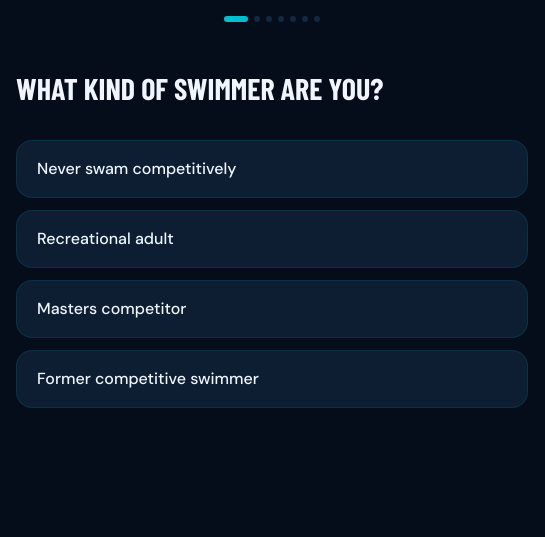
Test: OnboardingPage › enables continue on strokes step after selecting a stroke
Step 1. Click the button "Recreational adult" → coordinates (105, 238), box [16, 210, 528, 268]
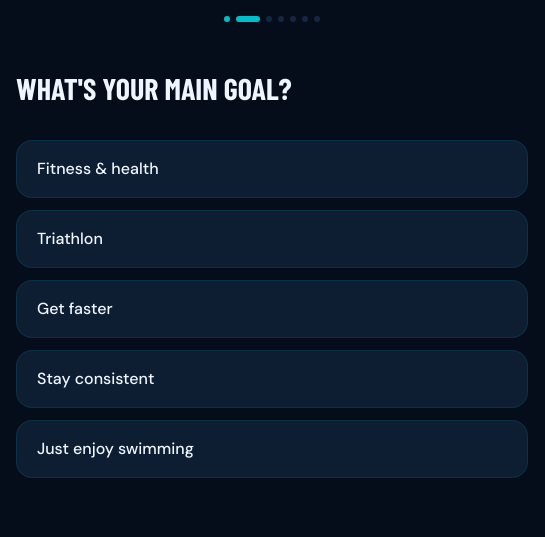
Step 2. Click the button "Fitness & health" → coordinates (98, 168), box [16, 140, 528, 198]
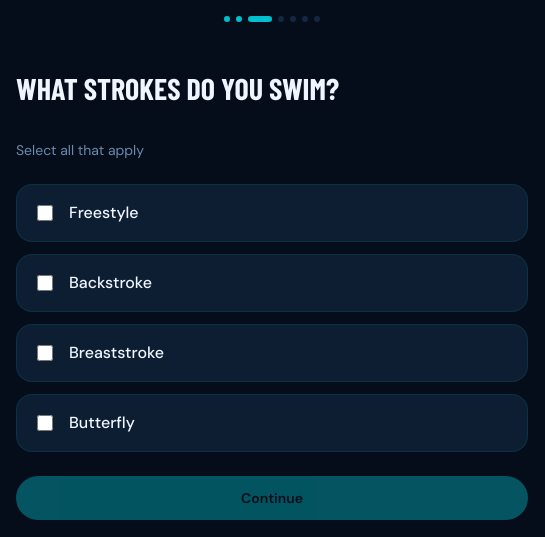
Step 3. Click the checkbox labelled "Freestyle" → coordinates (45, 212), box [37, 204, 53, 220]
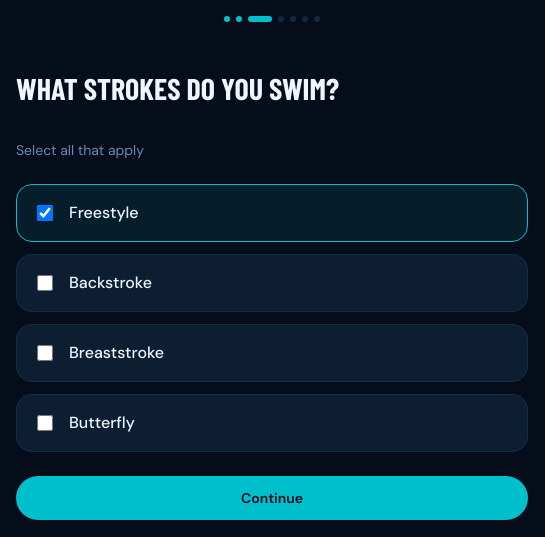
Result: the button "Continue" is enabled at [16, 476, 528, 520]
